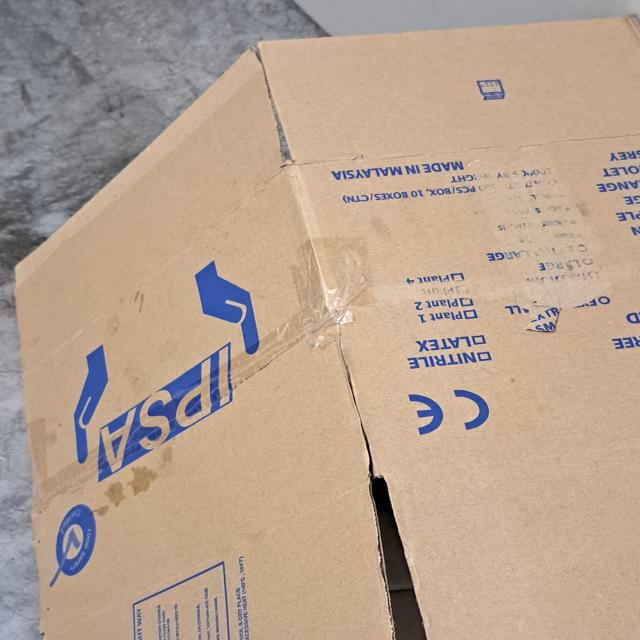cardboard: (13, 14, 640, 640)
